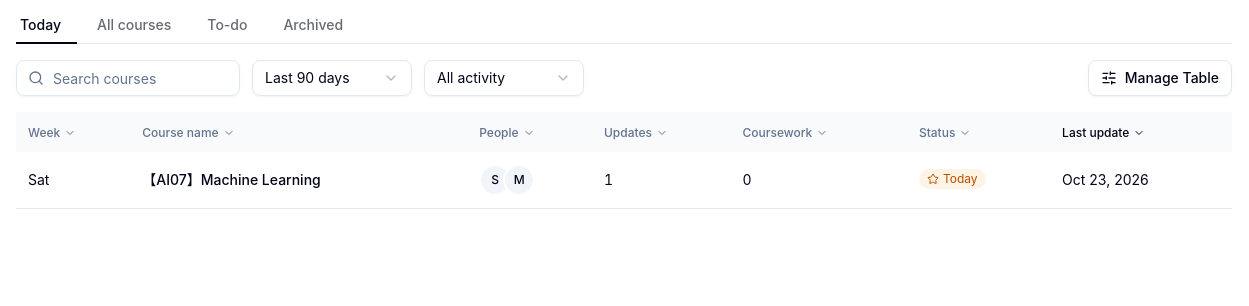
CoursesListPage › shows the lessons' board under the To-do tab
Click the tab "To-do": point(227, 26) x1=191 y1=8 x2=263 y2=44
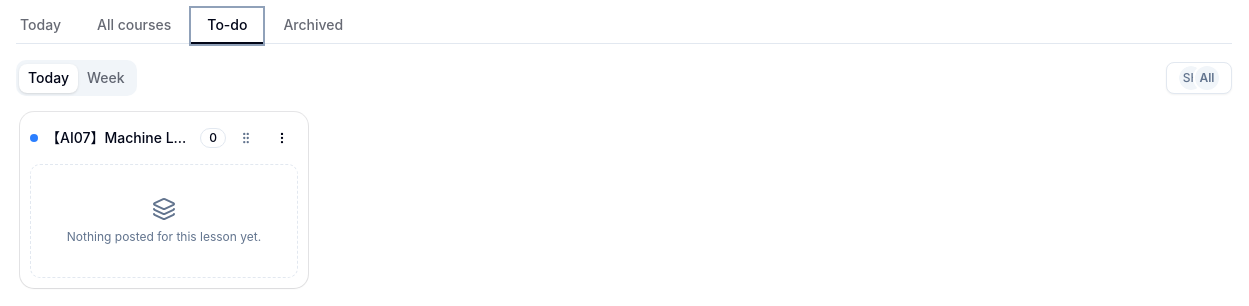
Expected: the element showing "【AI07】Machine Learning 0 Nothing posted for this lesson yet." is shown, x1=20 y1=112 x2=308 y2=288
Expected: the table is gone
